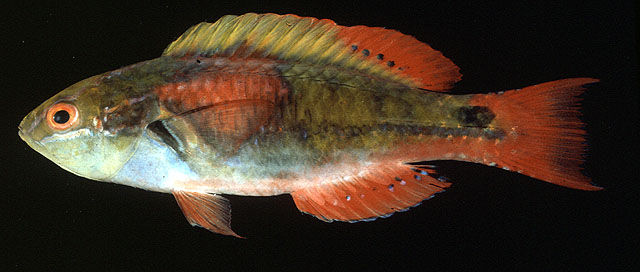fish: (17, 11, 604, 238)
